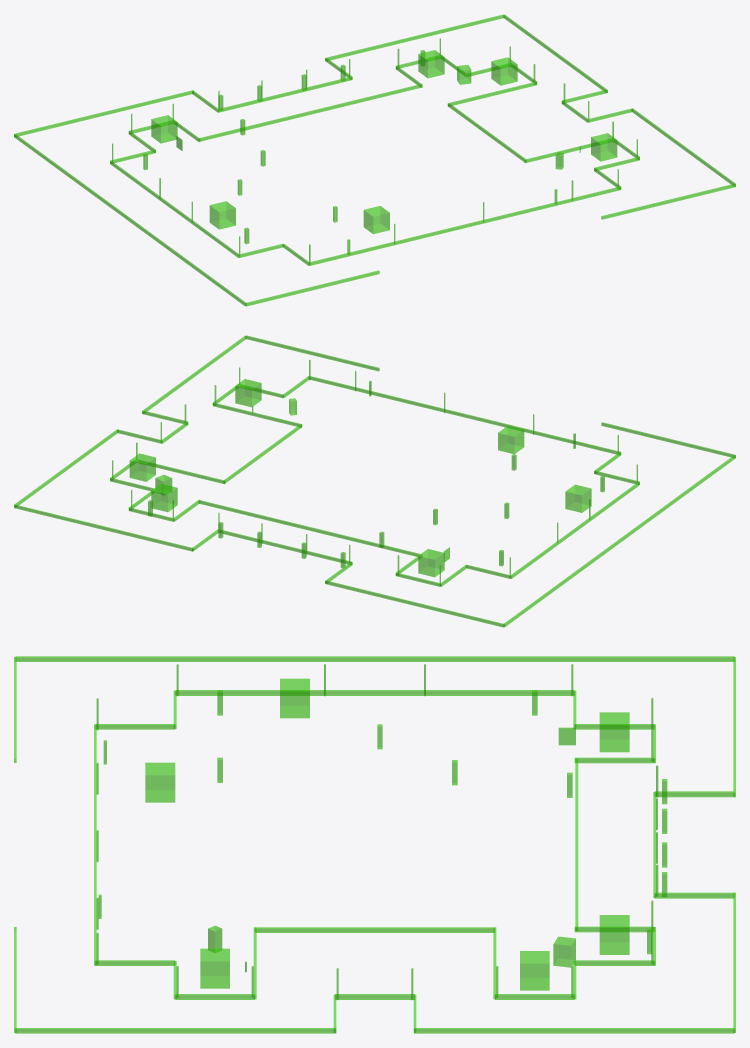
Rendered from track_02_collider.glb.
3 renders of one model, top to bottom at view 1: azimuth 30°, elevation 25°; view 2: azimuth 150°, elevation 25°; view 3: azimuth 270°, elevation 25°, orthographic. The views are drawn at different scales.
Parts seen in each view (by area): view 1: Box_collider.107_collider, Box_collider.273_collider, Box_collider.286_collider, Box_collider.283_collider, Box_collider.106_collider, Box_collider.277_collider, light1_collider, Box_collider.120_collider.001, Box_collider.132_collider, Box_collider.120_collider, Box_collider.065_collider, Box_collider.148_collider (+3 smaller); view 2: Box_collider.107_collider, Box_collider.273_collider, Box_collider.286_collider, Box_collider.283_collider, Box_collider.106_collider, Box_collider.277_collider, light1_collider, Box_collider.147_collider, Box_collider.132_collider, Box_collider.065_collider, Box_collider.120_collider, Box_collider.120_collider.001 (+3 smaller); view 3: Box_collider.283_collider, Box_collider.106_collider, Box_collider.065_collider, light1_collider, Box_collider.272_collider, Box_collider.132_collider, Box_collider.120_collider.001, Box_collider.148_collider, Box_collider.131_collider, Box_collider.120_collider, Box_collider.147_collider, Box_collider.107_collider (+4 smaller).
Part boxes in pixels (box(x1,y1,x2,y2)): Box_collider.107_collider: box(14, 14, 504, 136); Box_collider.273_collider: box(309, 186, 620, 265); Box_collider.286_collider: box(245, 183, 735, 306); Box_collider.283_collider: box(14, 134, 246, 306); Box_collider.106_collider: box(503, 14, 735, 186); Box_collider.277_collider: box(198, 84, 421, 141); light1_collider: box(112, 38, 637, 263); Box_collider.120_collider.001: box(363, 206, 389, 234); Box_collider.132_collider: box(151, 115, 177, 143); Box_collider.120_collider: box(591, 133, 617, 161); Box_collider.065_collider: box(110, 161, 239, 257); Box_collider.148_collider: box(418, 50, 444, 78); Box_collider.107_collider: box(14, 505, 504, 627); Box_collider.273_collider: box(310, 376, 620, 454); Box_collider.286_collider: box(245, 335, 735, 457); Box_collider.283_collider: box(503, 455, 735, 627); Box_collider.106_collider: box(14, 335, 246, 507); Box_collider.277_collider: box(199, 500, 420, 556); light1_collider: box(112, 360, 637, 583); Box_collider.147_collider: box(129, 453, 155, 481); Box_collider.132_collider: box(418, 549, 444, 577); Box_collider.065_collider: box(510, 482, 639, 578); Box_collider.120_collider: box(235, 379, 261, 407); Box_collider.120_collider.001: box(498, 426, 524, 454); Box_collider.283_collider: box(15, 656, 734, 661); Box_collider.106_collider: box(15, 1028, 734, 1033); Box_collider.065_collider: box(175, 690, 574, 695); light1_collider: box(96, 664, 658, 999); Box_collider.272_collider: box(255, 927, 494, 932); Box_collider.132_collider: box(599, 712, 629, 752); Box_collider.120_collider.001: box(145, 762, 175, 802); Box_collider.148_collider: box(599, 915, 629, 954); Box_collider.131_collider: box(280, 678, 309, 718); Box_collider.120_collider: box(200, 948, 229, 988); Box_collider.147_collider: box(520, 951, 549, 990); Box_collider.107_collider: box(733, 657, 735, 1032).
Bounding box in the file's own units: 177 × 7.56 × 145.
